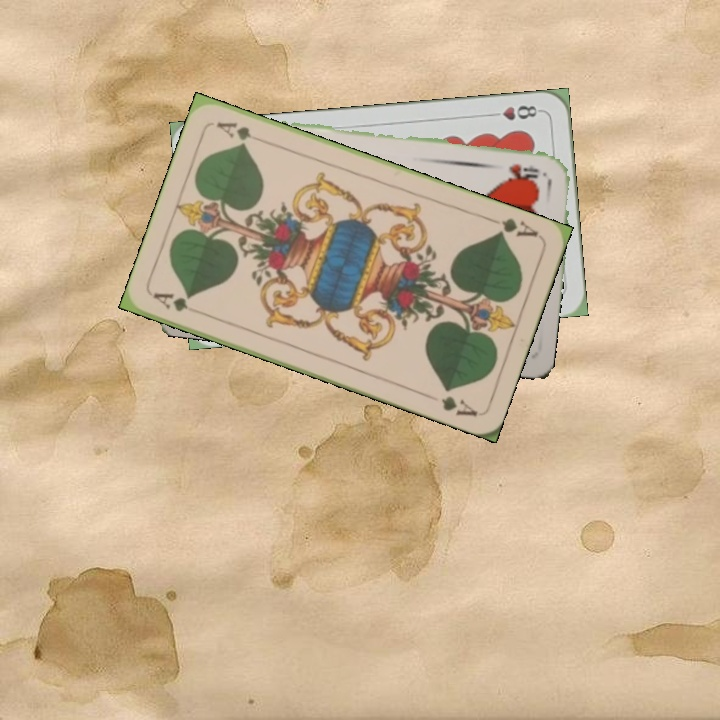GA: (149, 288, 206, 318), (484, 214, 541, 240)
H8: (485, 101, 544, 123)
HO: (503, 159, 542, 183)
